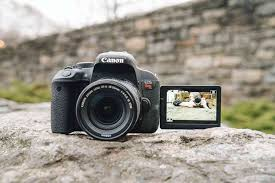camera: (50, 53, 160, 140)
